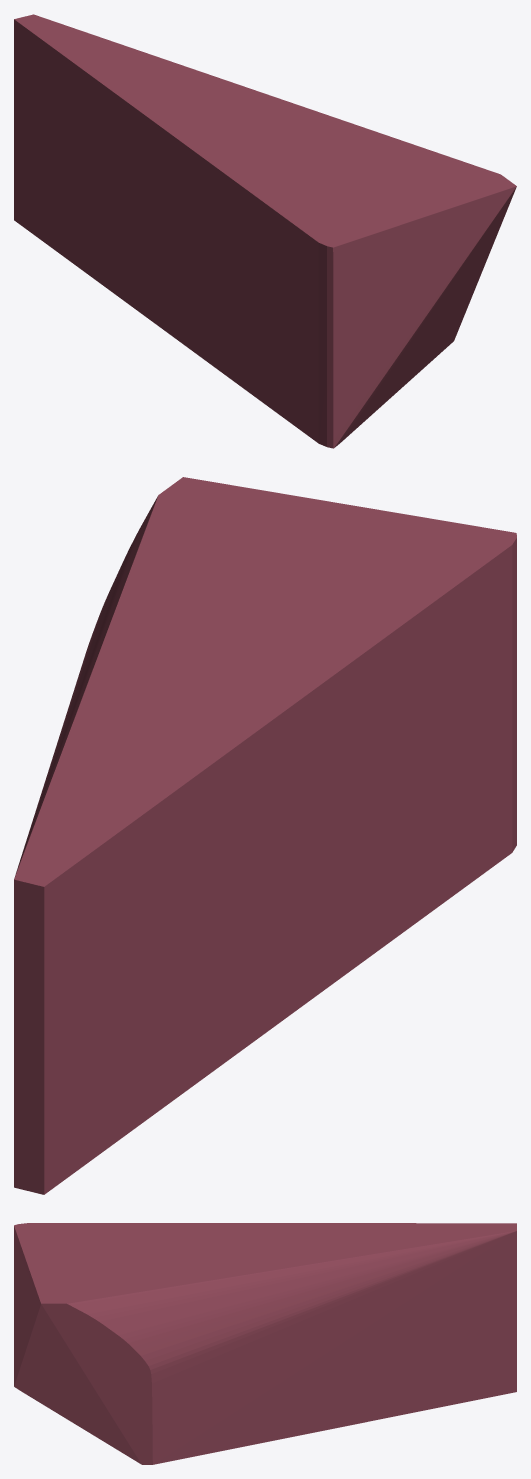
File: right_palm_part_13.obj
3 views of the same model, one above another, from view 1: azimuth 30°, elevation 25°; view 2: azimuth 150°, elevation 25°; view 3: azimuth 270°, elevation 25° (orthographic). The views are drawn at different scales.
Size of the model in its own units: 11.04 by 10.27 by 29.06.
